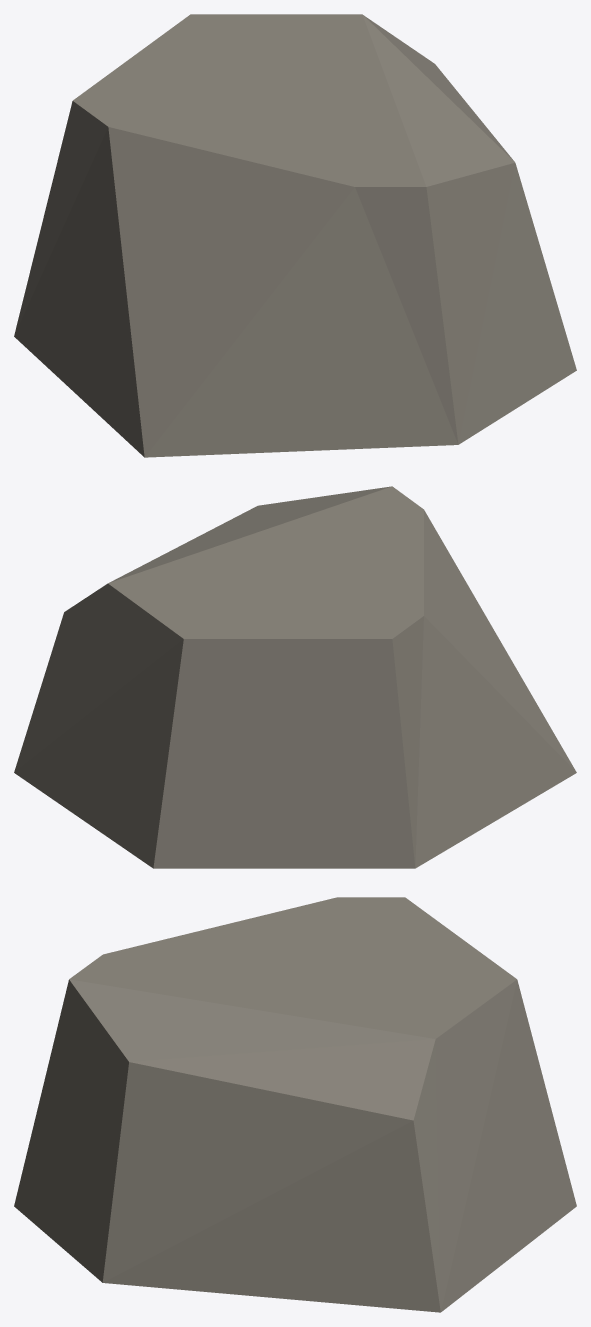
Rendered from TB_D_Env_RockE_A.FBX.
3 renders of one model, top to bottom at view 1: azimuth 30°, elevation 25°; view 2: azimuth 150°, elevation 25°; view 3: azimuth 270°, elevation 25°, orthographic. The views are drawn at different scales.
Visible parts, largest first — view 1: TB_D_Env_RockE_A; view 2: TB_D_Env_RockE_A; view 3: TB_D_Env_RockE_A.
Part boxes in pixels (x1,y1,x2,y2): TB_D_Env_RockE_A: [14, 14, 576, 457]; TB_D_Env_RockE_A: [14, 486, 576, 868]; TB_D_Env_RockE_A: [14, 897, 576, 1312].
Size of the model in its own units: 0.9787 by 0.465 by 1.05.
